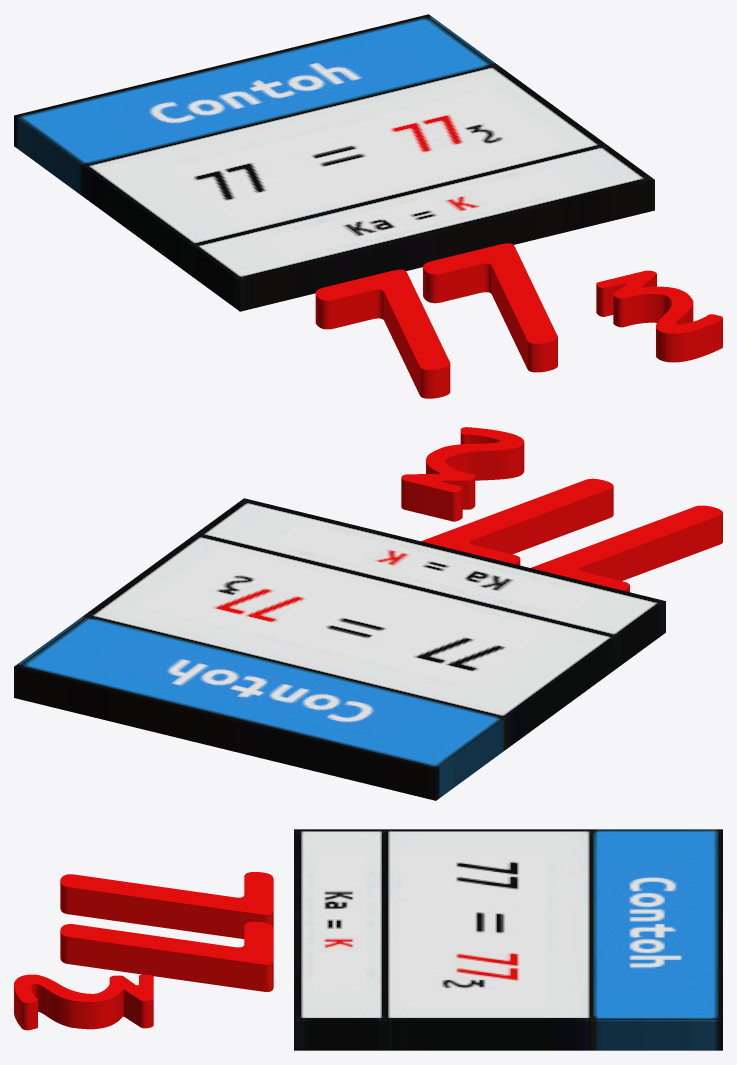
3 views of the same model, one above another, from view 1: azimuth 30°, elevation 25°; view 2: azimuth 150°, elevation 25°; view 3: azimuth 270°, elevation 25° (orthographic). The views are drawn at different scales.
Parts seen in each view (by area): view 1: contoh-pamaeh-Rarangken, Text; view 2: contoh-pamaeh-Rarangken, Text; view 3: contoh-pamaeh-Rarangken, Text.
Boxes of the visible parts, x1,y1,x2,y2 form: contoh-pamaeh-Rarangken: (14, 14, 654, 311); Text: (315, 243, 722, 398); contoh-pamaeh-Rarangken: (14, 498, 665, 800); Text: (401, 427, 722, 592); contoh-pamaeh-Rarangken: (294, 829, 722, 1050); Text: (14, 872, 273, 1030).
Bounding box in the file's own units: 1.06 × 0.11 × 1.65.
2 materials, 1 textured.
